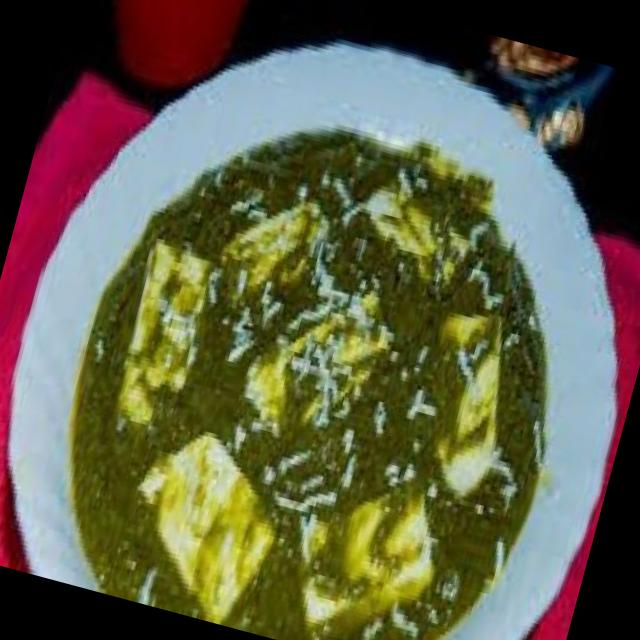palak_paneer: (24, 70, 615, 640)
